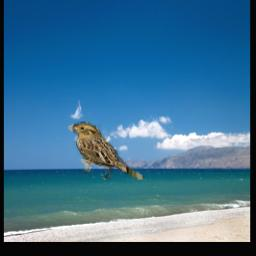Sparrow: (67, 121, 143, 180)
